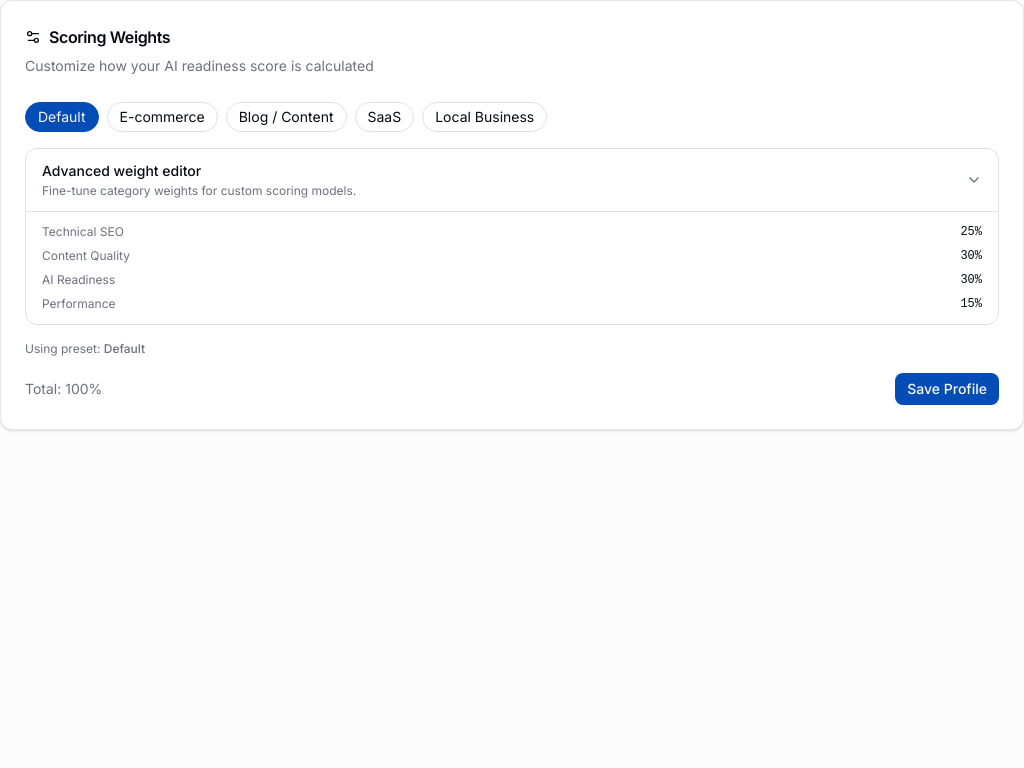
Test: ScoringProfileSection advanced editor › shows sliders when advanced editor is expanded
Click the button "Advanced weight editor": click(122, 170) x1=26 y1=149 x2=998 y2=211
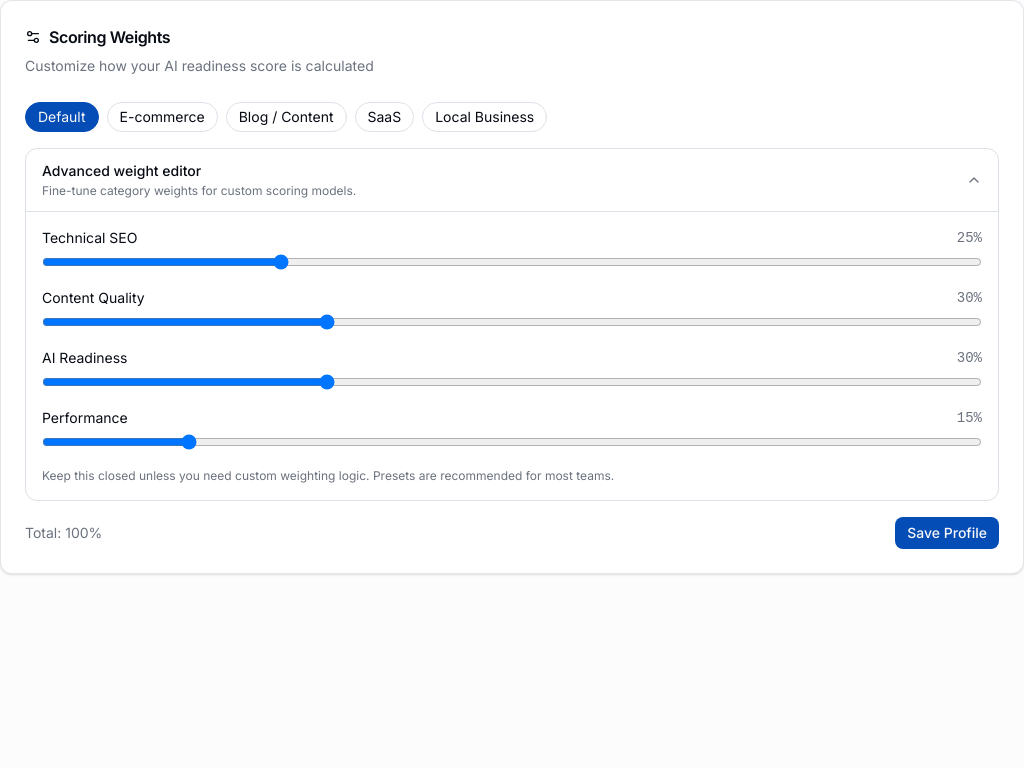
Expected: the button "Advanced weight editor" is expanded, x1=26 y1=149 x2=998 y2=211
Expected: the number of sliders is 4, x1=42 y1=254 x2=982 y2=270; x1=42 y1=314 x2=982 y2=330; x1=42 y1=374 x2=982 y2=390; x1=42 y1=434 x2=982 y2=450
